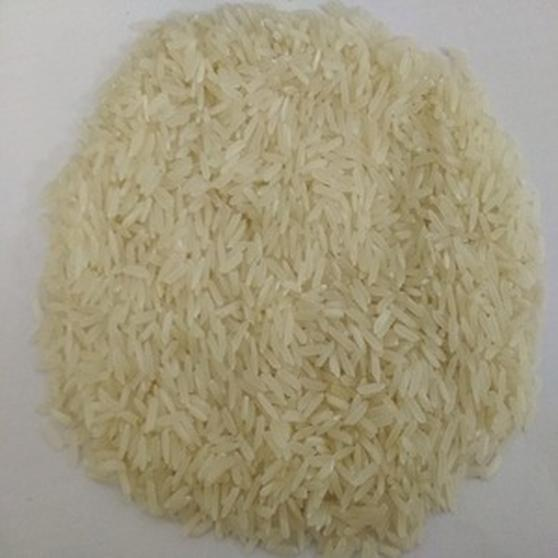rice: (66, 36, 532, 539)
